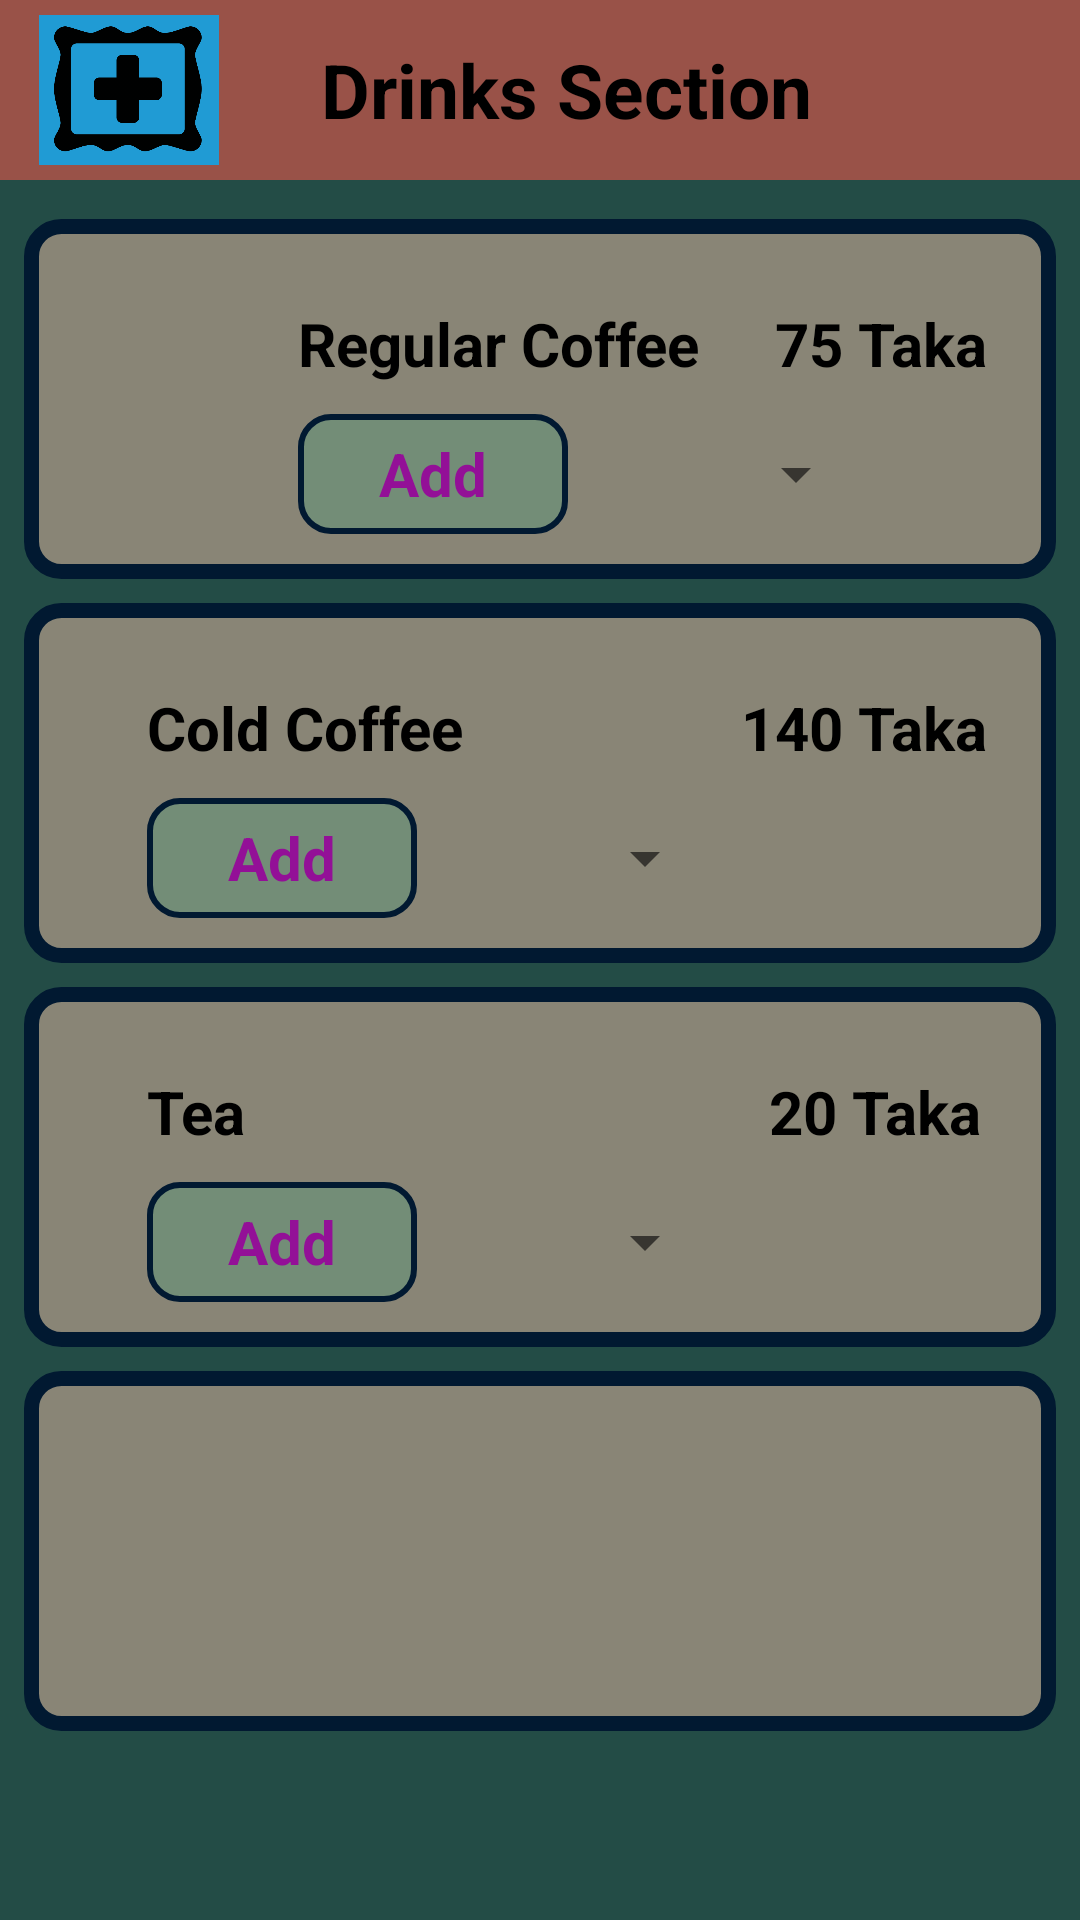

Where icons sit on this 1080px x 1920px app screen, as (x1, y1, x2, y2):
add: (39, 15, 219, 165)
